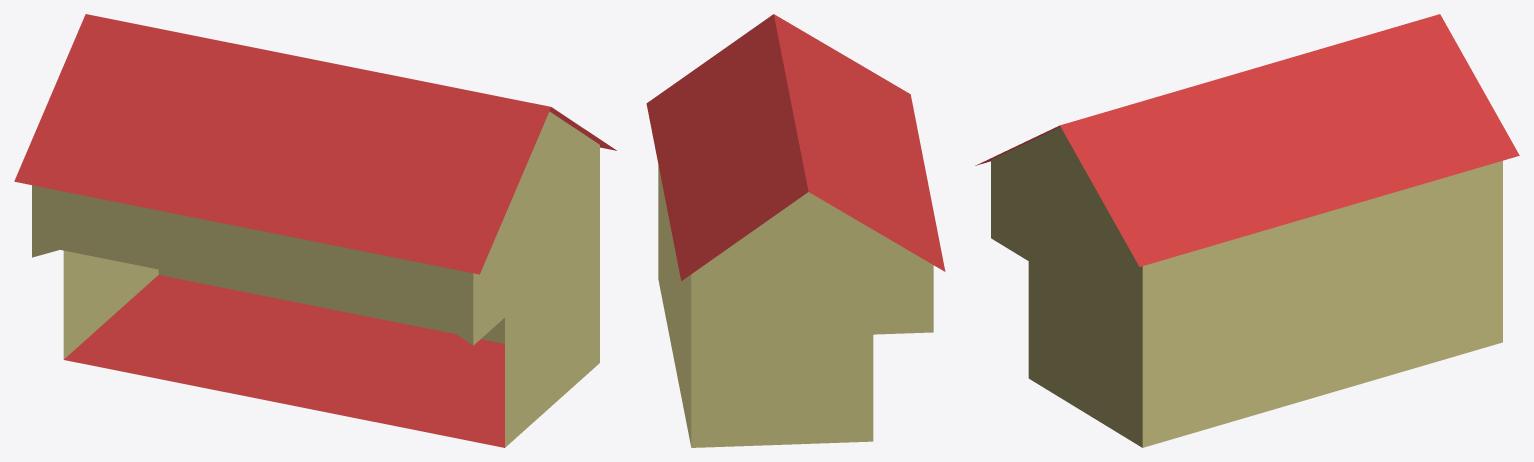
3 views of the same model, side by side, from view 1: azimuth 30°, elevation 25°; view 2: azimuth 150°, elevation 25°; view 3: azimuth 270°, elevation 25° (orthographic). The views are drawn at different scales.
Bounding box in the file's own units: 31.28 × 33.98 × 19.31.
